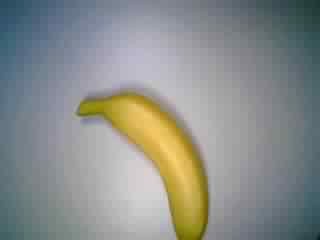banana: (67, 87, 211, 239)
